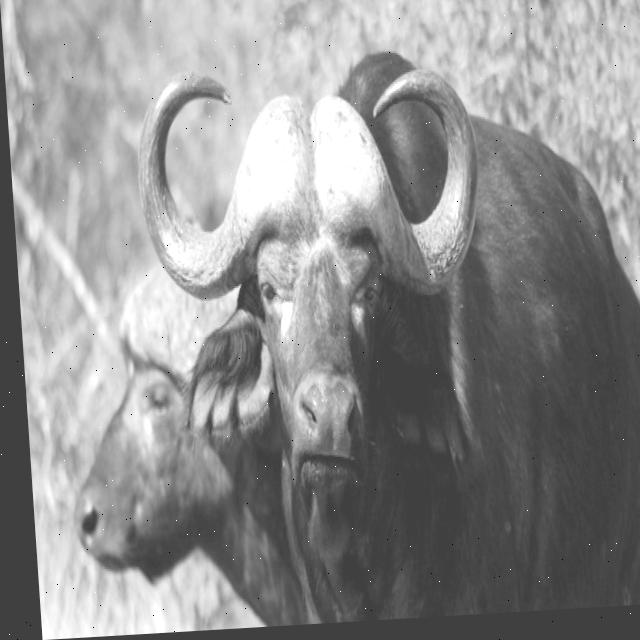Buffalo: (135, 37, 640, 629)
